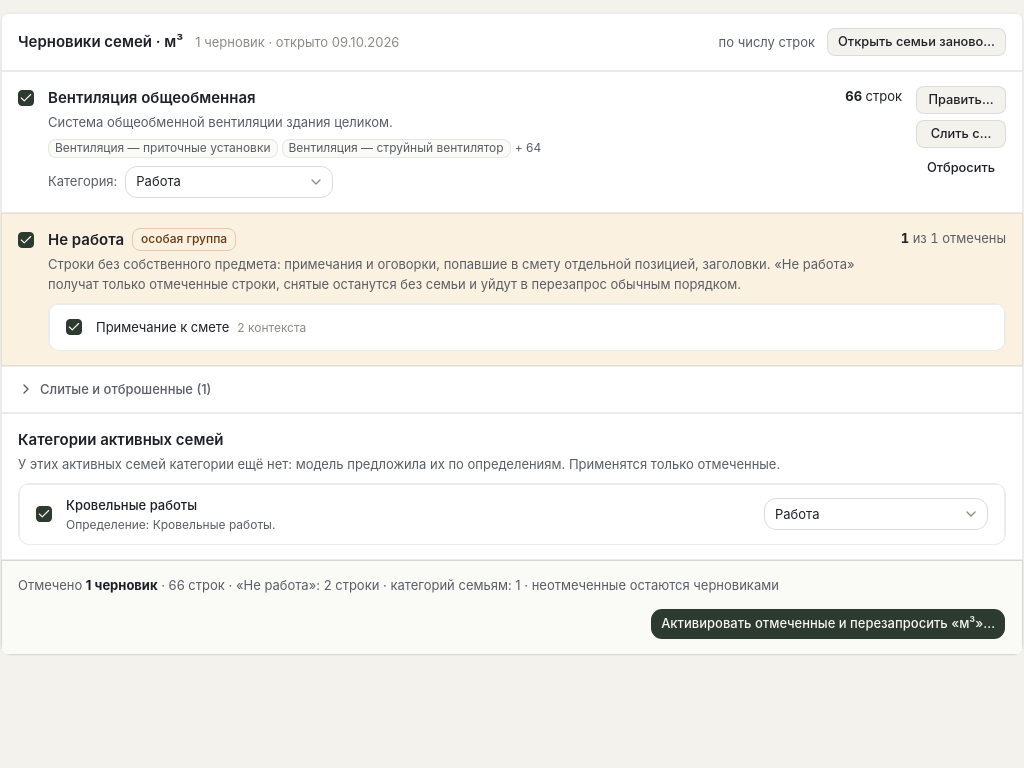
Scenario: DiscoveryDrafts — ожидание действий › «Вернуть»: кнопка слитого занята на время запроса
Step 1. Click the button "Слитые и отброшенные (1)" → (115, 389), box [18, 379, 211, 400]
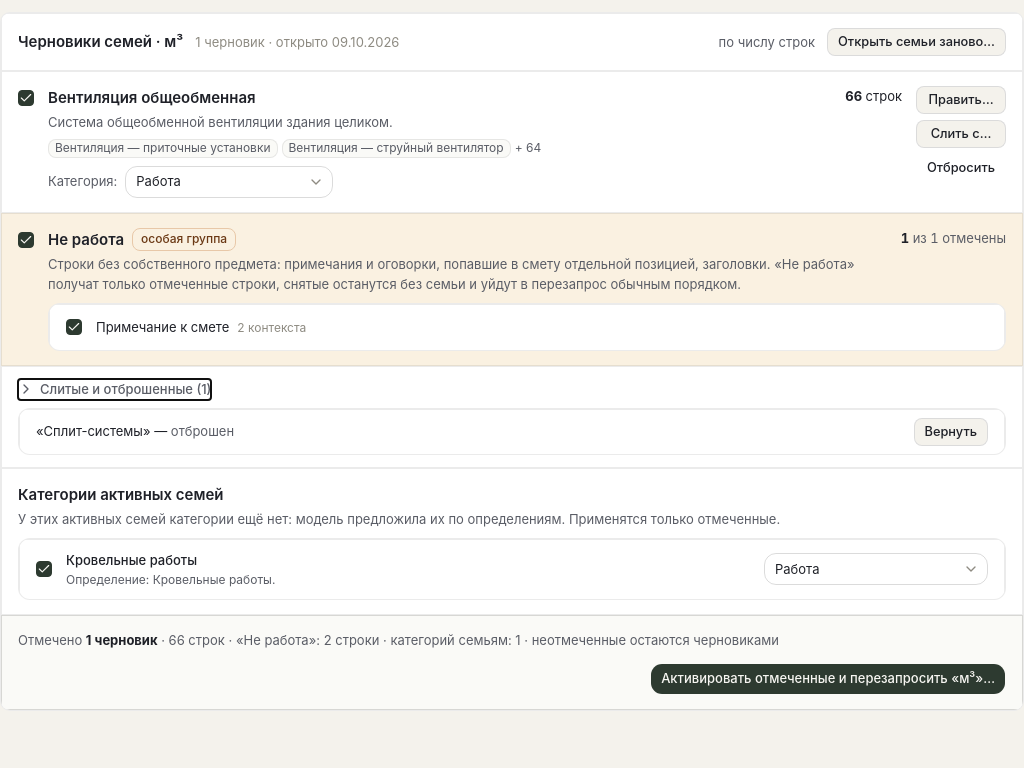
Step 2. Click the button "Вернуть" → (951, 432), box [914, 418, 988, 446]
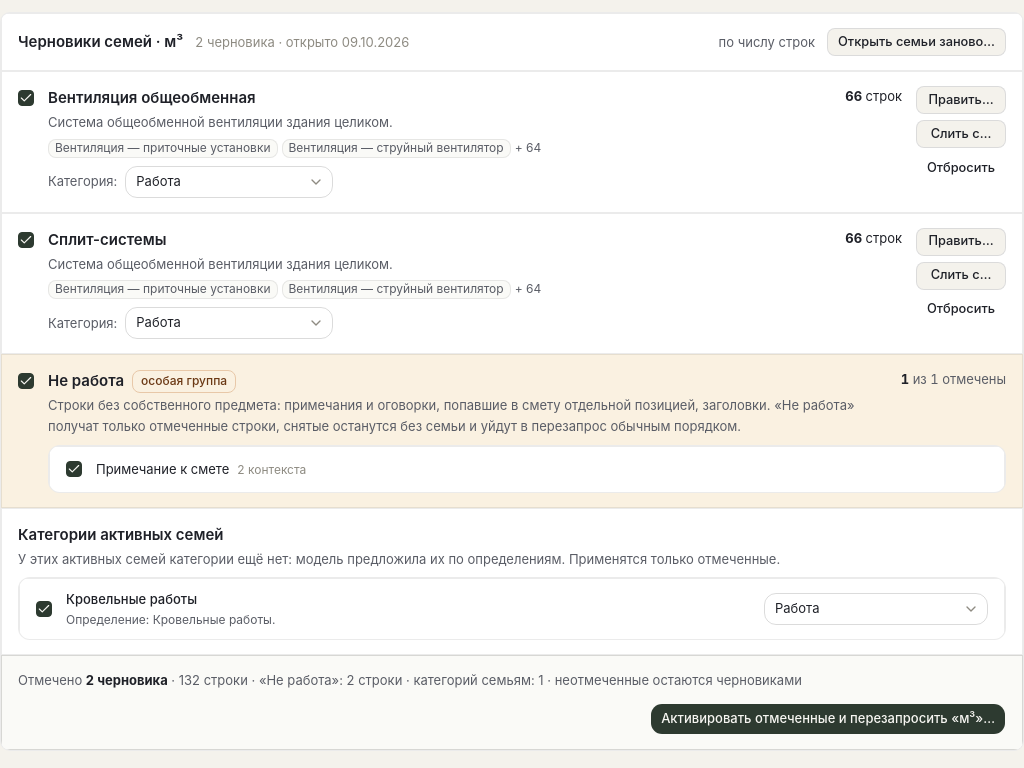
Expected: the number of elements with test id "draft-card" is 2, [1, 71, 1023, 213]; [1, 213, 1023, 354]
